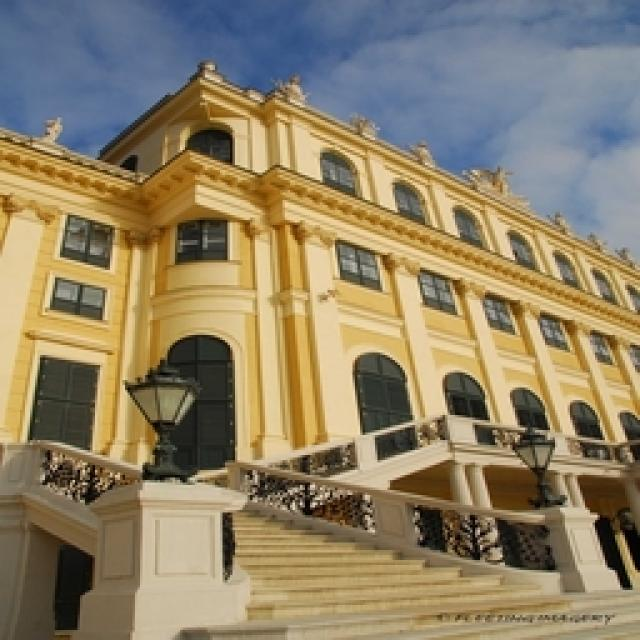Abbey: (122, 247, 287, 488)
